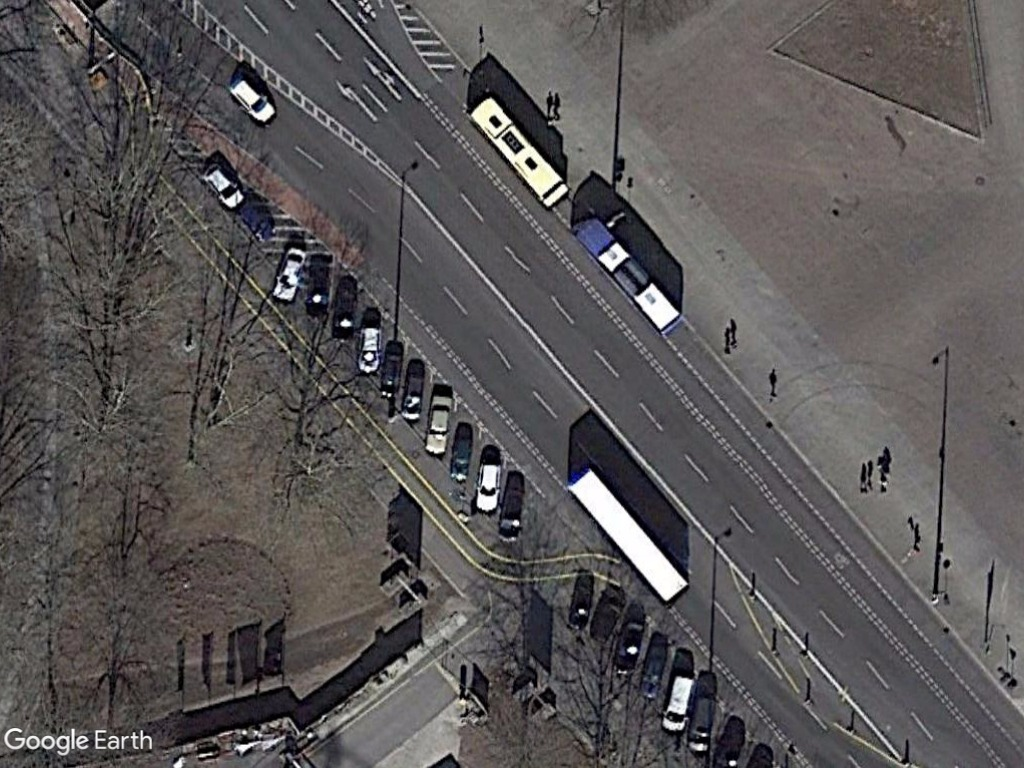bus: (568, 212, 684, 338), (464, 91, 572, 207)
car: (265, 242, 310, 306), (196, 160, 250, 213), (225, 72, 278, 125), (420, 385, 456, 460), (469, 457, 506, 520), (352, 316, 383, 378)
longvehicle: (562, 461, 696, 610)
van: (658, 674, 700, 735)
